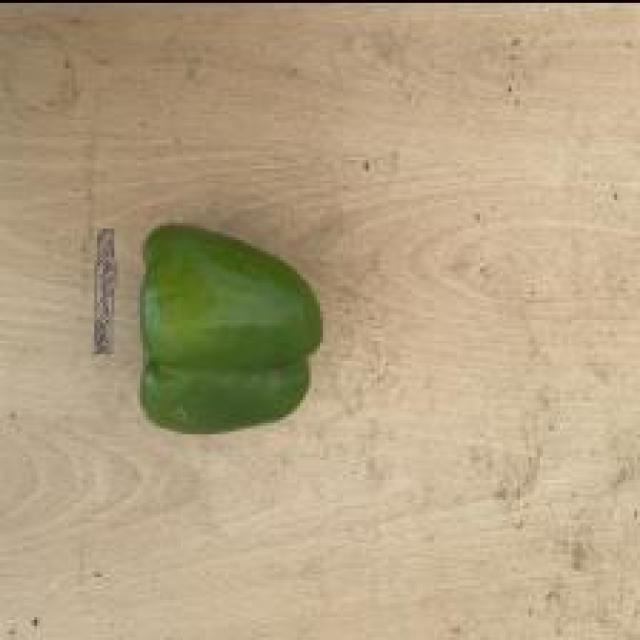Pepper: (140, 223, 326, 437)
